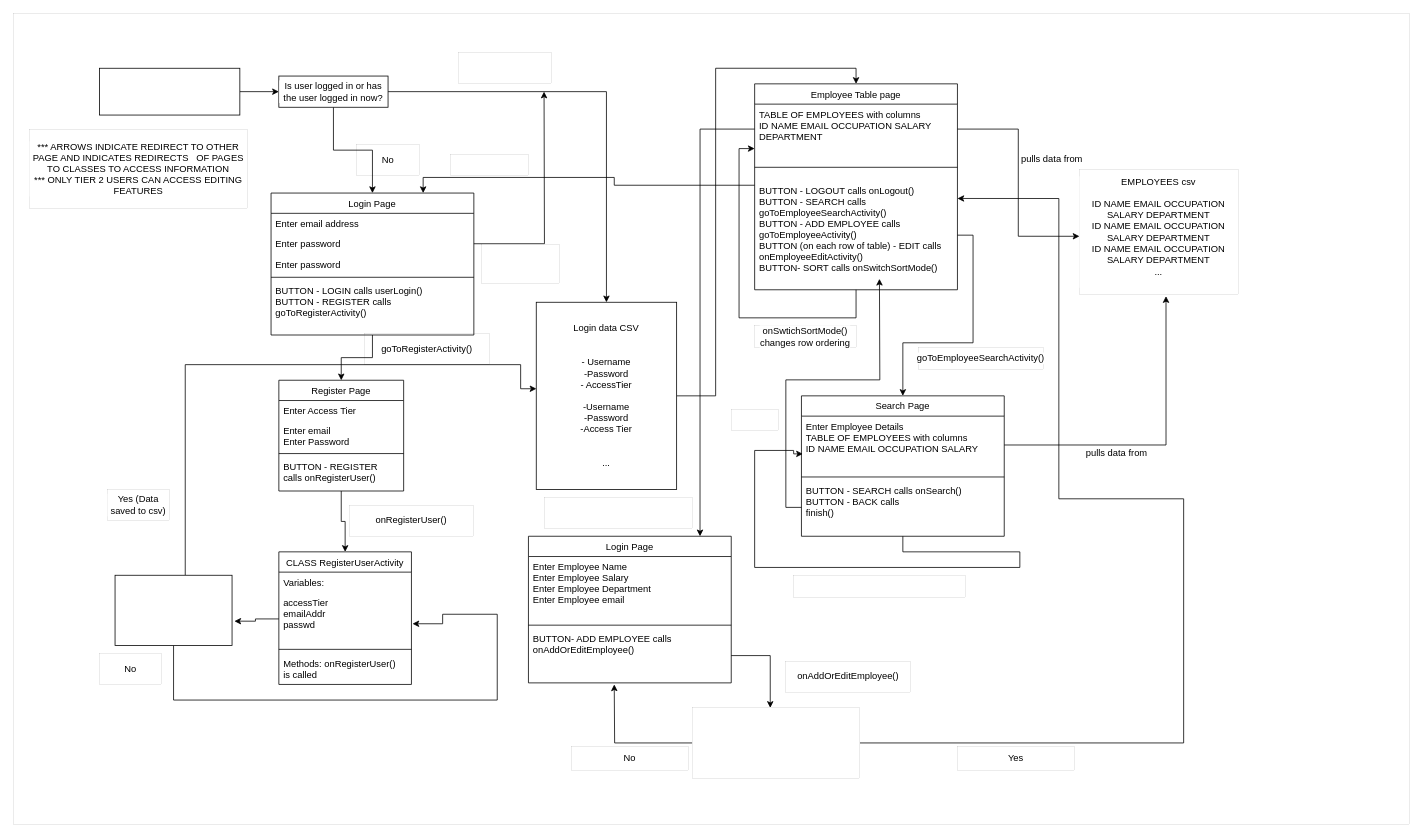
The diagram is 1423 pixels wide and 838 high, and some of its shapes have lost their labels. Each missing label, with the centre of its shape:
Are inputs Valid?: the point at 776,742
Are the inputs from the register page valid?: the point at 173,609
finish(): the point at 754,420
onEmployeeEditActivity() goToEmployeeEditActivity(): the point at 618,512
onLogout(): the point at 489,165
onSearch() makes page display employees matching values given in the search bar: the point at 879,586
User access Application: the point at 169,91
userLogin(): the point at 520,263
Yes (Login info pulled/checked from csv): the point at 504,67
